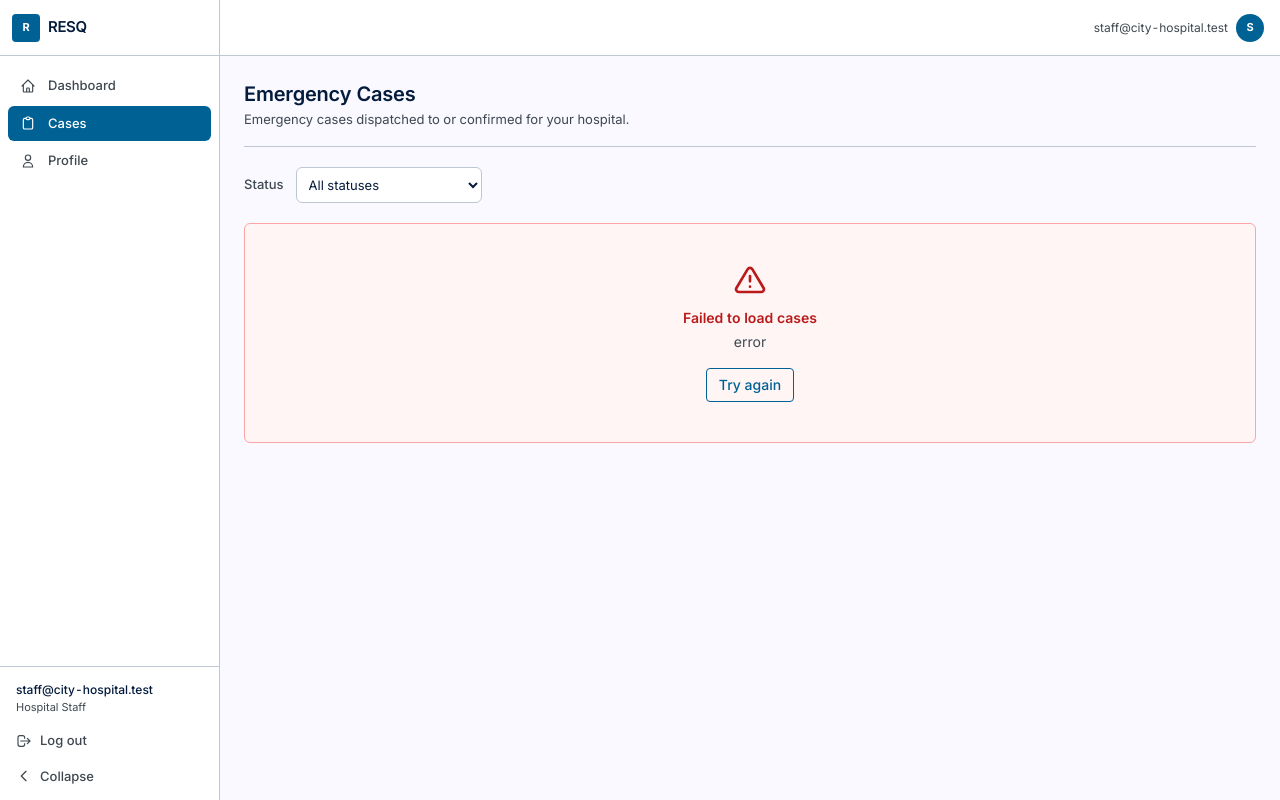
it: HospitalCaseList — API failure and retry › shows retry button and retries on click
The image size is (1280, 800).
Step 1. Click the button "Try again" → (750, 384), box [706,368,794,402]
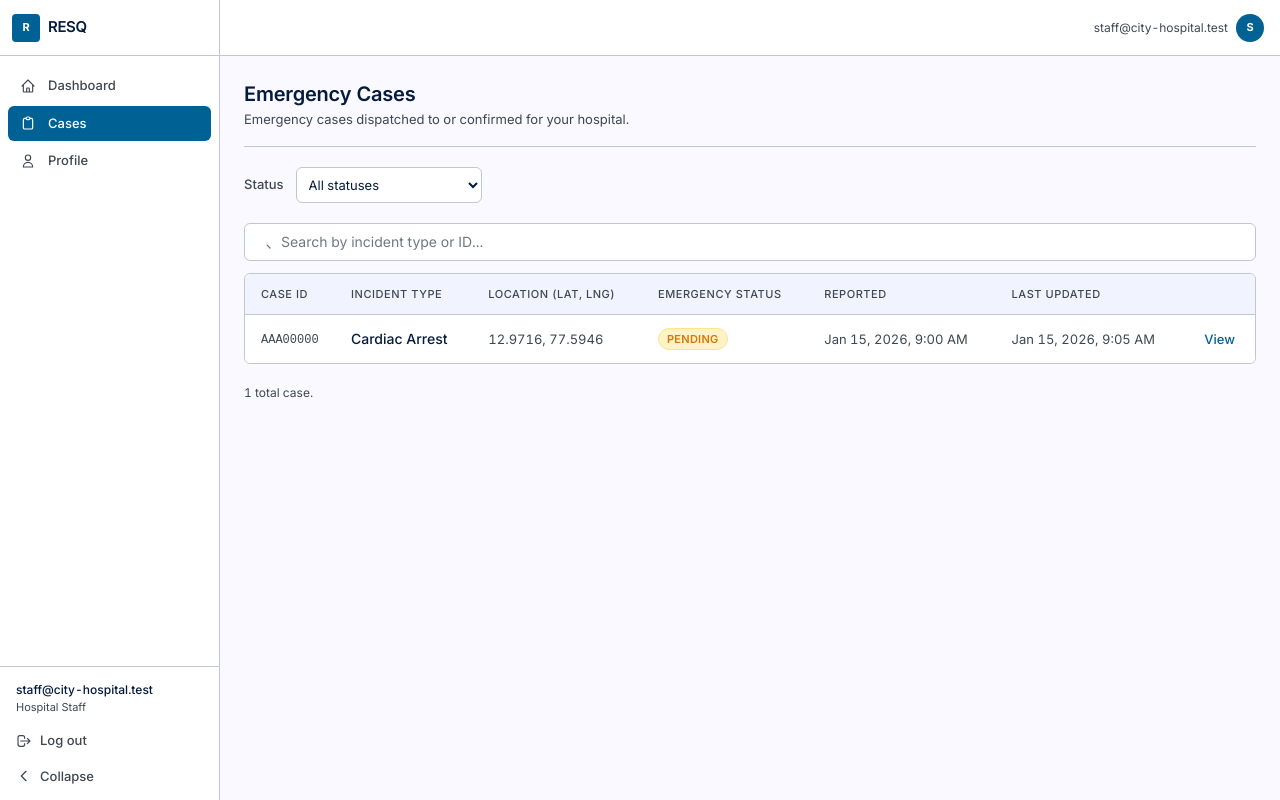
Expected: the text "Cardiac Arrest" is shown, [351,330,448,347]
